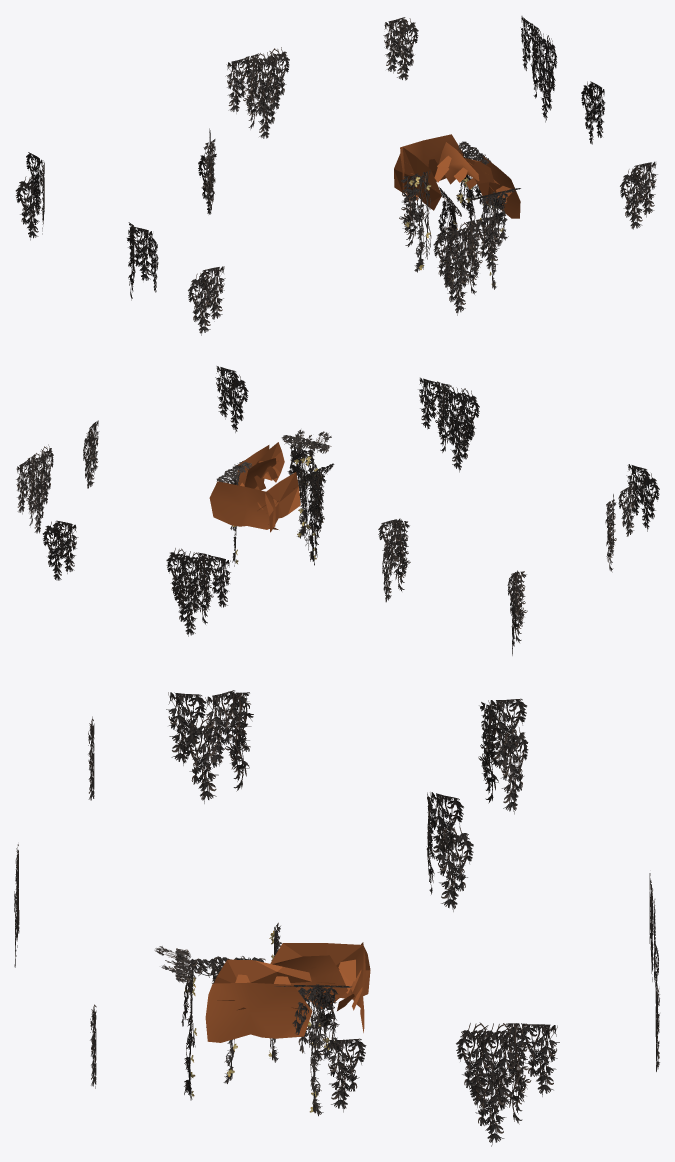
The model's file is ShopBeardMoss.FBX.
3 renders of one model, top to bottom at view 1: azimuth 30°, elevation 25°; view 2: azimuth 150°, elevation 25°; view 3: azimuth 270°, elevation 25°, orthographic. The views are drawn at different scales.
Parts seen in each view (by area): view 1: Object031, Object074; view 2: Object031, Object074; view 3: Object031, Object074.
Part boxes in pixels (box(x1,y1,x2,y2)): Object031: box(15, 16, 657, 335); Object074: box(394, 134, 520, 218); Object031: box(16, 366, 659, 655); Object074: box(209, 442, 300, 532); Object031: box(14, 690, 659, 1146); Object074: box(205, 942, 370, 1042).
Size of the model in its own units: 1159 by 303 by 931.
